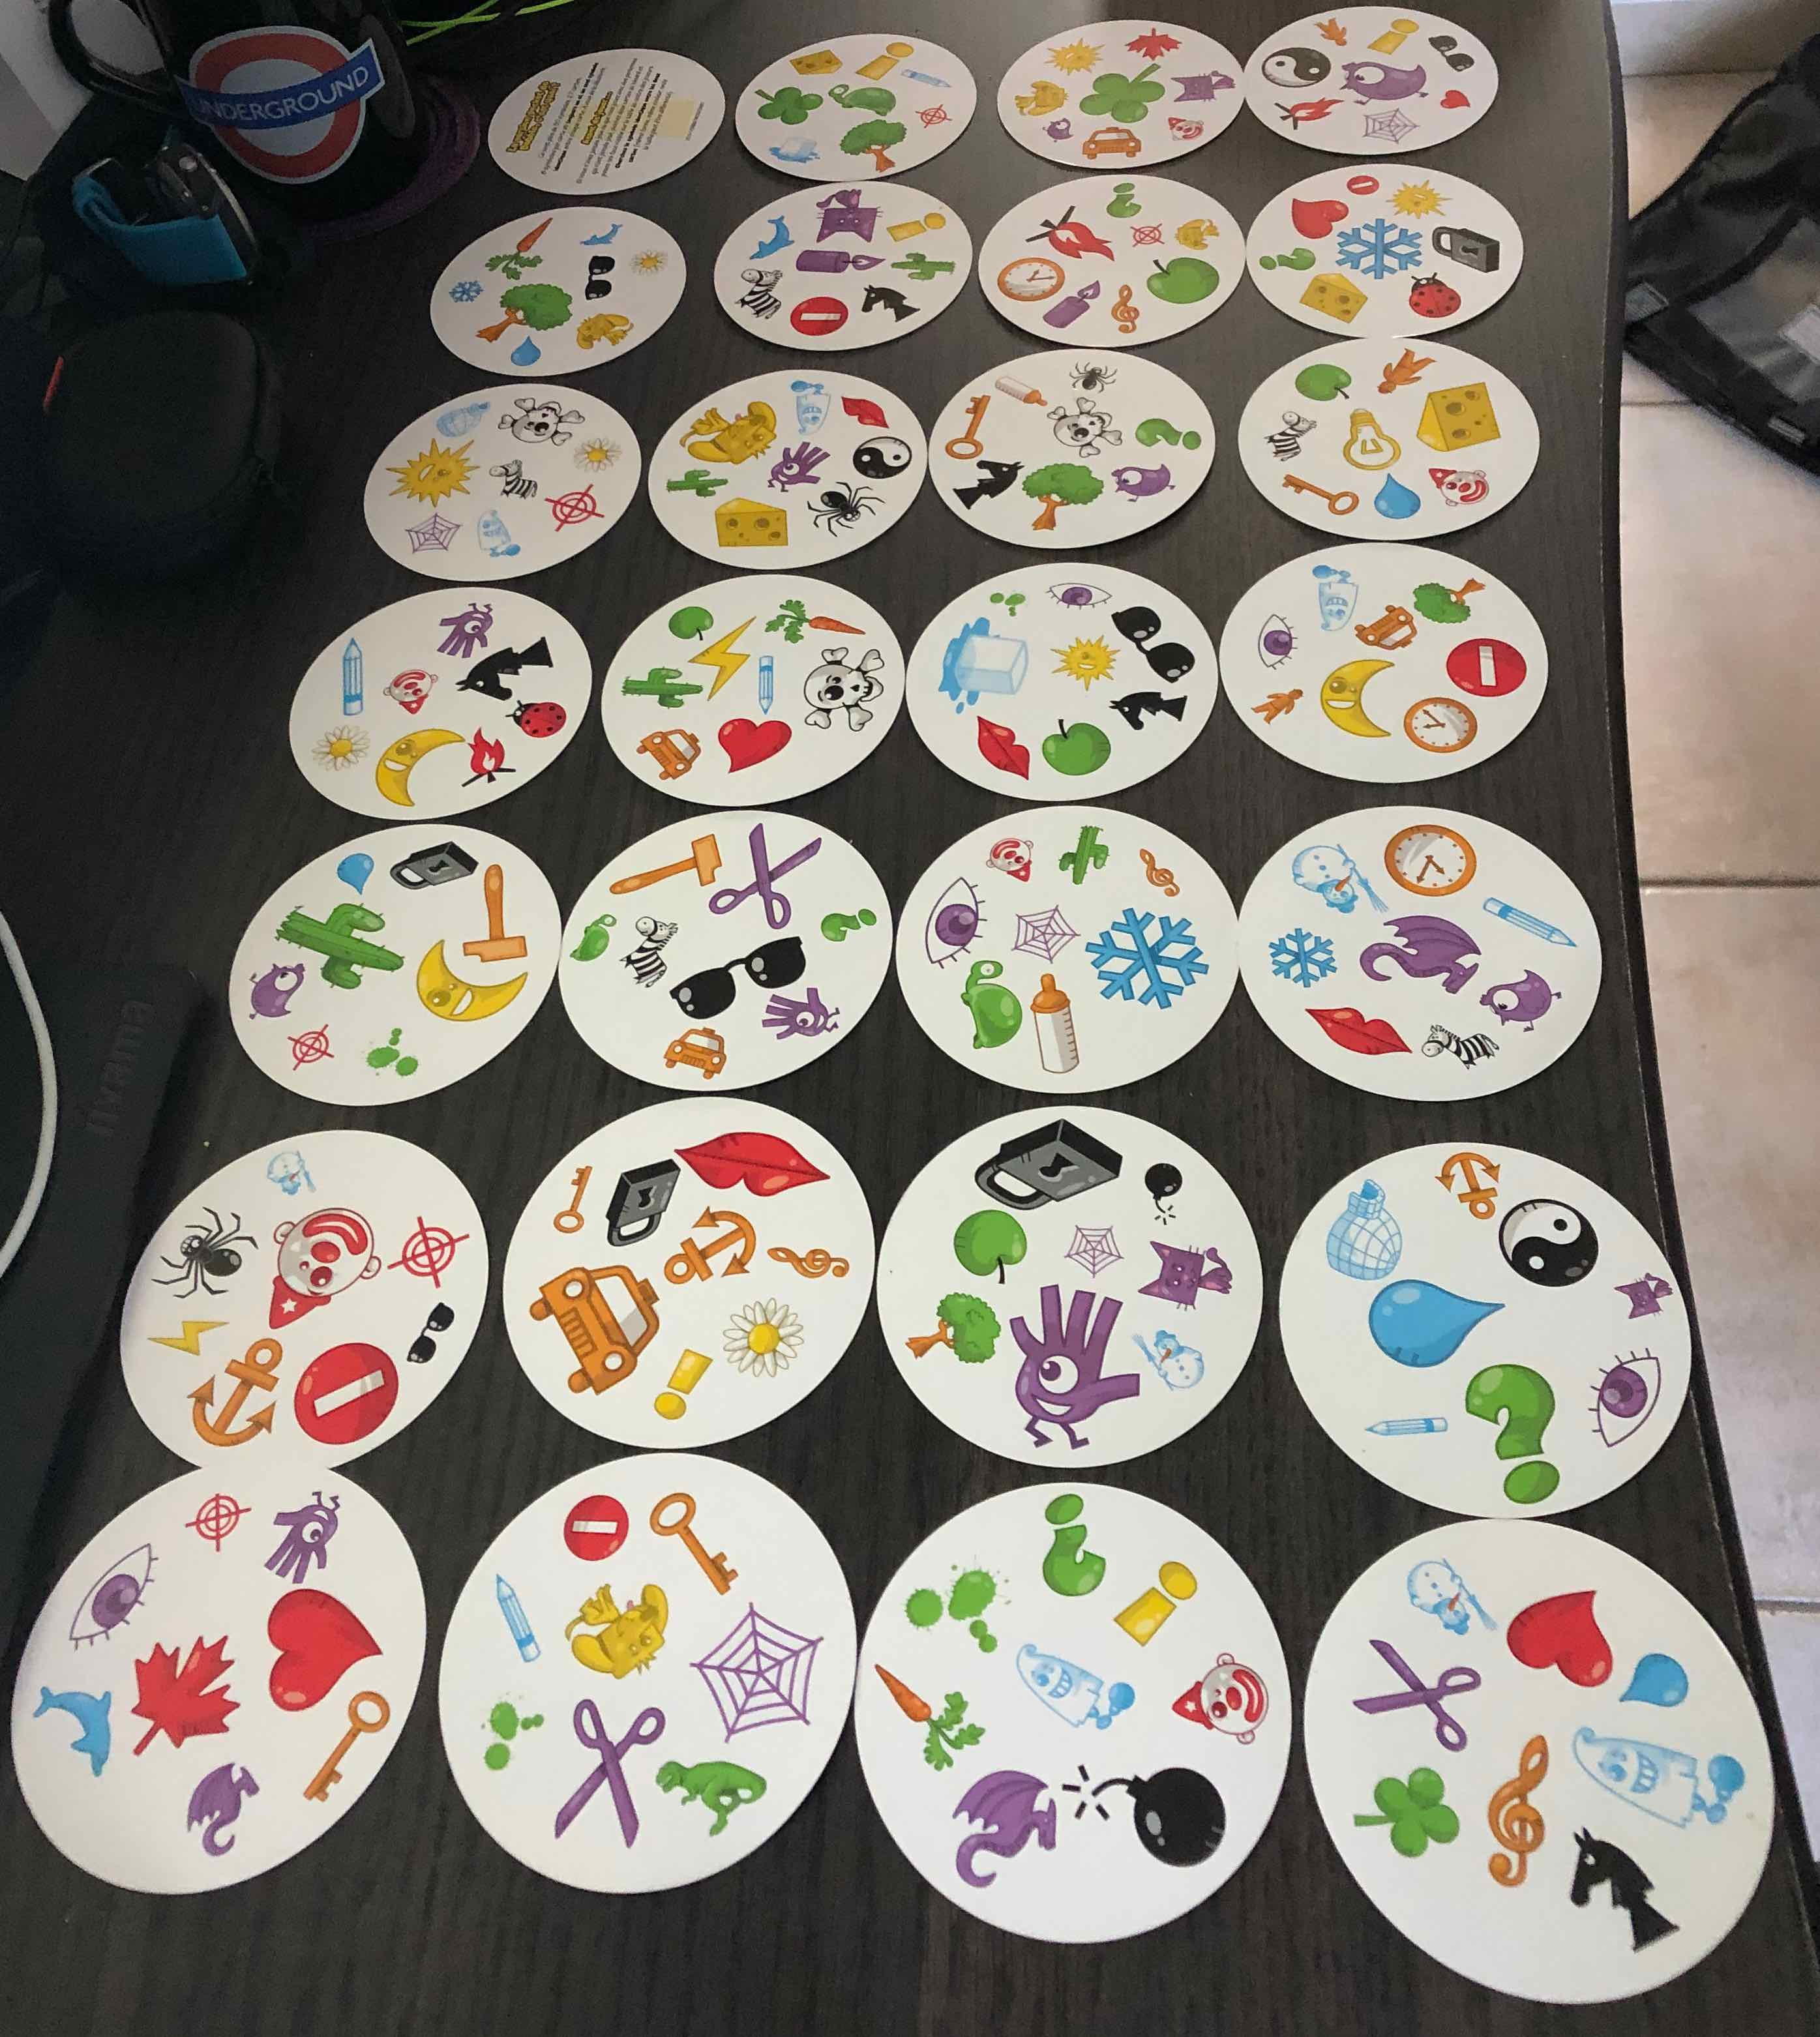ancre: (1377, 385, 1507, 539), (177, 1335, 285, 1456), (1309, 613, 1423, 725), (683, 1194, 829, 1280)
bouche: (1507, 1587, 1618, 1698)
carotte: (868, 1647, 996, 1763)
chat: (172, 1747, 276, 1872)
cheval: (1556, 1821, 1678, 1949)
dooble: (1015, 1277, 1144, 1435)
dragon: (72, 1531, 172, 1638)
eclair: (868, 1647, 996, 1763)
fantome: (1576, 1719, 1730, 1823)
feu: (532, 1707, 650, 1853)
feuille: (109, 1630, 249, 1779)
flocon: (1082, 904, 1203, 1010), (1261, 897, 1361, 994), (957, 639, 1051, 741)
goutte: (1376, 1243, 1486, 1380)
sens_interdit: (1416, 643, 1518, 734)
toile: (699, 1612, 826, 1747)
